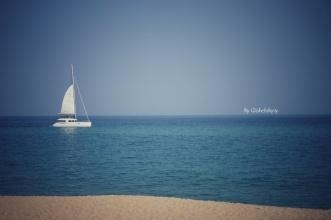fanchuan: (49, 65, 101, 129)
